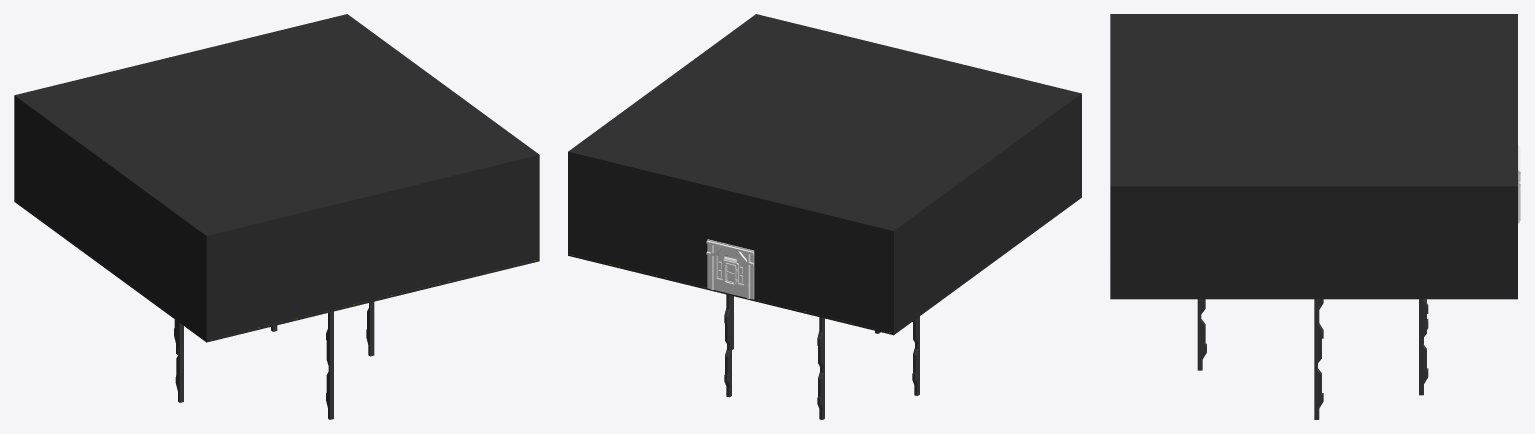
File: brackeys-voting-terminal.glb
3 views of the same model, side by side, from view 1: azimuth 30°, elevation 25°; view 2: azimuth 150°, elevation 25°; view 3: azimuth 270°, elevation 25° (orthographic). The views are drawn at different scales.
Parts seen in each view (by area): view 1: wall-col.048, wall-col.050, wall-col.010, wall-col.011, wall-col.051, wall-col.006, wall-col.009, wall-col.049, wall-col.052, wall-col.054, wall-col.053, wall-col.008 (+65 smaller); view 2: wall-col.041, wall-col.044, wall-col.004, wall-col.047, wall-col.043, wall-col.045, wall-col.046, wall-col.003, wall-col.005, wall-col.042, wall-col.001, wall-col.002 (+65 smaller); view 3: wall-col.035, wall-col.040, wall-col.034, wall-col.036, wall-col.037, wall-col.038, wall-col.039, wall-col.013, wall-col.014, wall-col.015, wall-col.016, wall-col.017 (+55 smaller).
Part boxes in pixels (left/top/right/bottom): wall-col.048: left=206, top=229, right=254, bottom=290; wall-col.050: left=301, top=206, right=349, bottom=267; wall-col.010: left=206, top=279, right=254, bottom=340; wall-col.011: left=301, top=256, right=349, bottom=316; wall-col.051: left=444, top=171, right=491, bottom=232; wall-col.006: left=492, top=209, right=539, bottom=270; wall-col.009: left=254, top=267, right=301, bottom=328; wall-col.049: left=254, top=218, right=301, bottom=278; wall-col.052: left=492, top=160, right=539, bottom=220; wall-col.054: left=349, top=194, right=396, bottom=255; wall-col.053: left=397, top=183, right=444, bottom=243; wall-col.008: left=397, top=232, right=444, bottom=293; wall-col.041: left=707, top=190, right=754, bottom=250; wall-col.044: left=800, top=213, right=847, bottom=272; wall-col.004: left=800, top=262, right=847, bottom=321; wall-col.047: left=568, top=156, right=614, bottom=216; wall-col.043: left=847, top=224, right=893, bottom=284; wall-col.045: left=661, top=179, right=707, bottom=238; wall-col.046: left=614, top=168, right=660, bottom=227; wall-col.003: left=754, top=250, right=800, bottom=310; wall-col.005: left=847, top=273, right=893, bottom=333; wall-col.042: left=754, top=202, right=800, bottom=261; wall-col.001: left=568, top=205, right=614, bottom=264; wall-col.002: left=614, top=216, right=660, bottom=276; wall-col.035: left=1343, top=191, right=1401, bottom=244; wall-col.040: left=1110, top=191, right=1168, bottom=244; wall-col.034: left=1285, top=191, right=1343, bottom=244; wall-col.036: left=1459, top=191, right=1517, bottom=244; wall-col.037: left=1401, top=191, right=1459, bottom=244; wall-col.038: left=1226, top=191, right=1284, bottom=244; wall-col.039: left=1168, top=191, right=1226, bottom=244; wall-col.013: left=1459, top=244, right=1517, bottom=296; wall-col.014: left=1401, top=244, right=1459, bottom=296; wall-col.015: left=1343, top=244, right=1401, bottom=296; wall-col.016: left=1168, top=244, right=1226, bottom=296; wall-col.017: left=1110, top=244, right=1168, bottom=296.
Bounding box in the file's own units: 35 × 25.53 × 35.22.
Materials: 181 (168 with a texture image).
